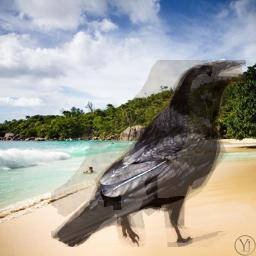Crow: (51, 60, 246, 247)
